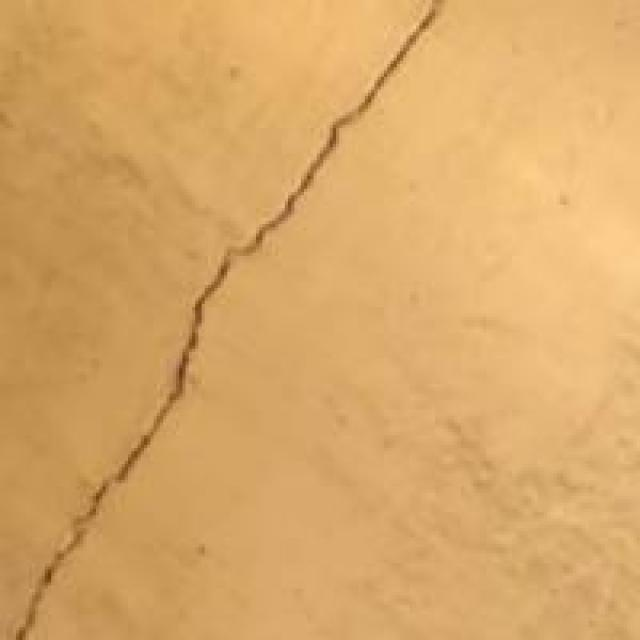crack: (0, 0, 470, 637)
